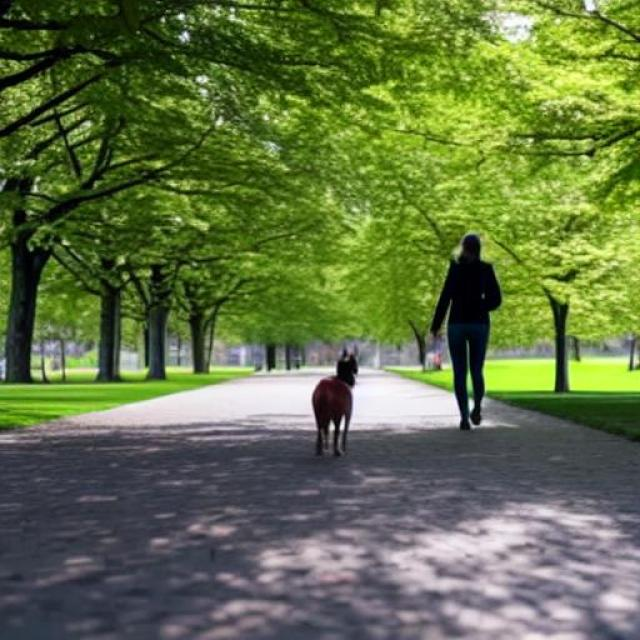Unleashed_Dog: (311, 322, 483, 457)
